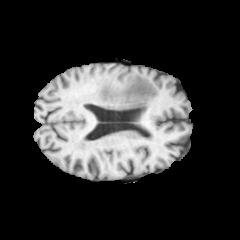glioma: (98, 75, 157, 108)
